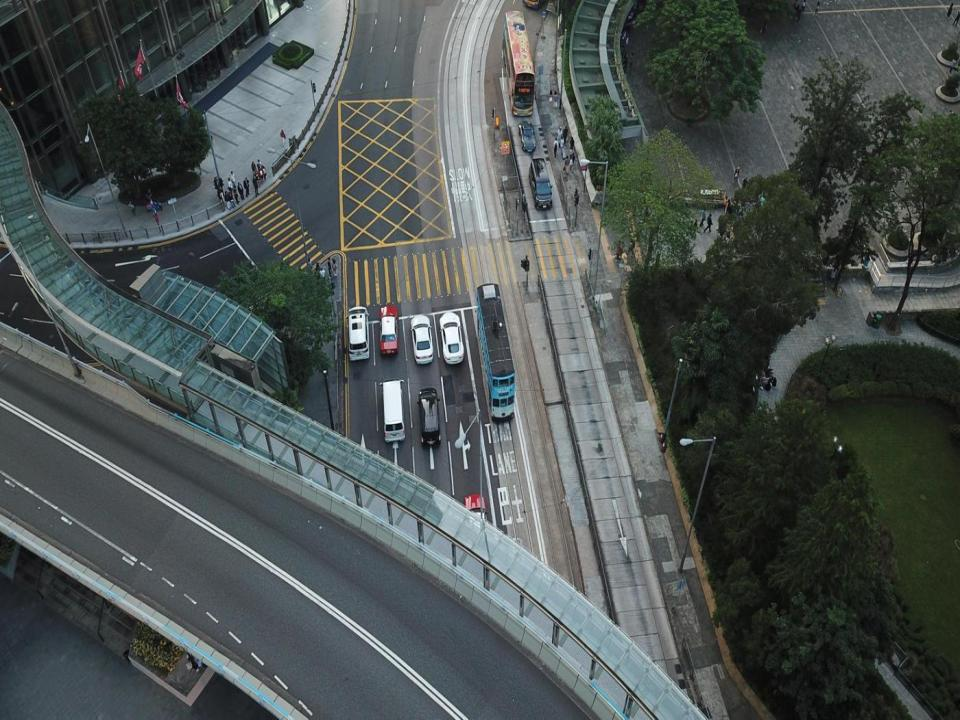bus: (477, 283, 516, 421), (502, 11, 535, 116)
car: (461, 494, 488, 546), (346, 306, 371, 361), (417, 388, 440, 445), (440, 312, 464, 364), (410, 315, 434, 365), (378, 305, 400, 354), (518, 121, 536, 152)
van: (379, 378, 407, 441), (528, 158, 552, 209)
